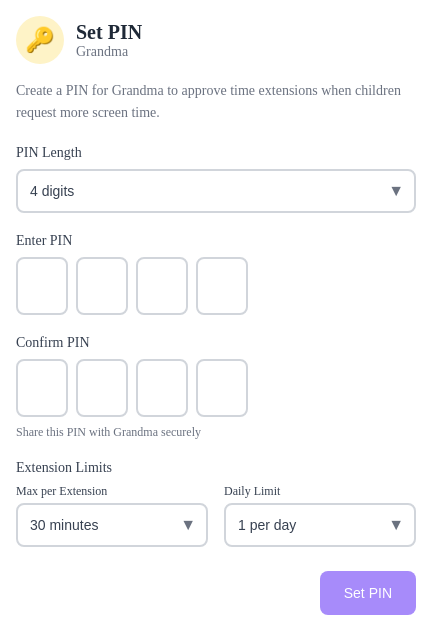
Test case: CaregiverPinEditor › PIN Length Selection (AC1) › can select 5 digit PIN
The width and height of the screenshot is (433, 632).
Step 1. Select "5 digits" in the dropdown with test id "pin-length-select" → [216, 191], box [16,169,416,213]
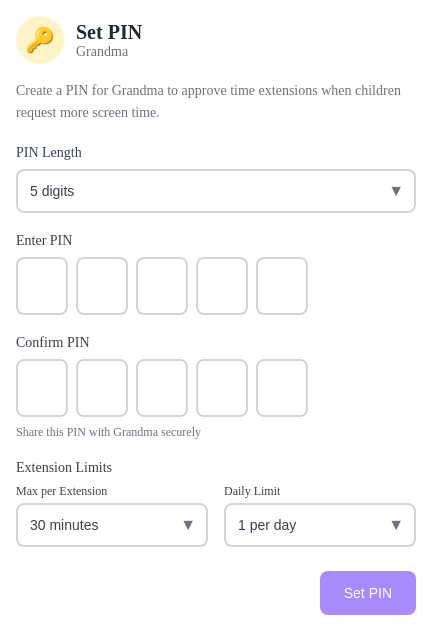
Now the password field with test id "pin-digit-4" is shown, box [256,257,308,315]
